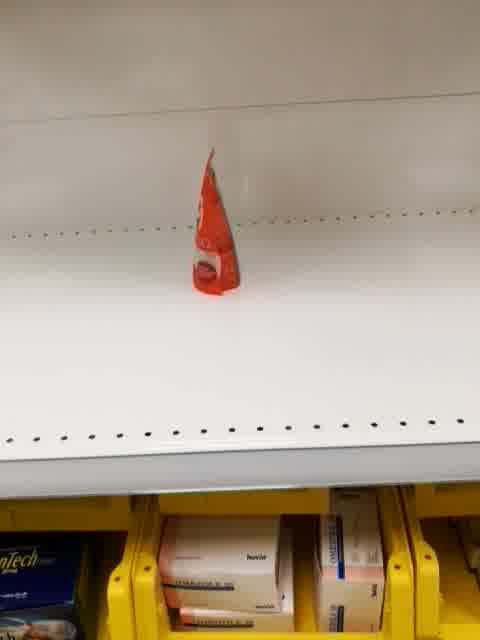whitechia: (187, 144, 242, 297)
